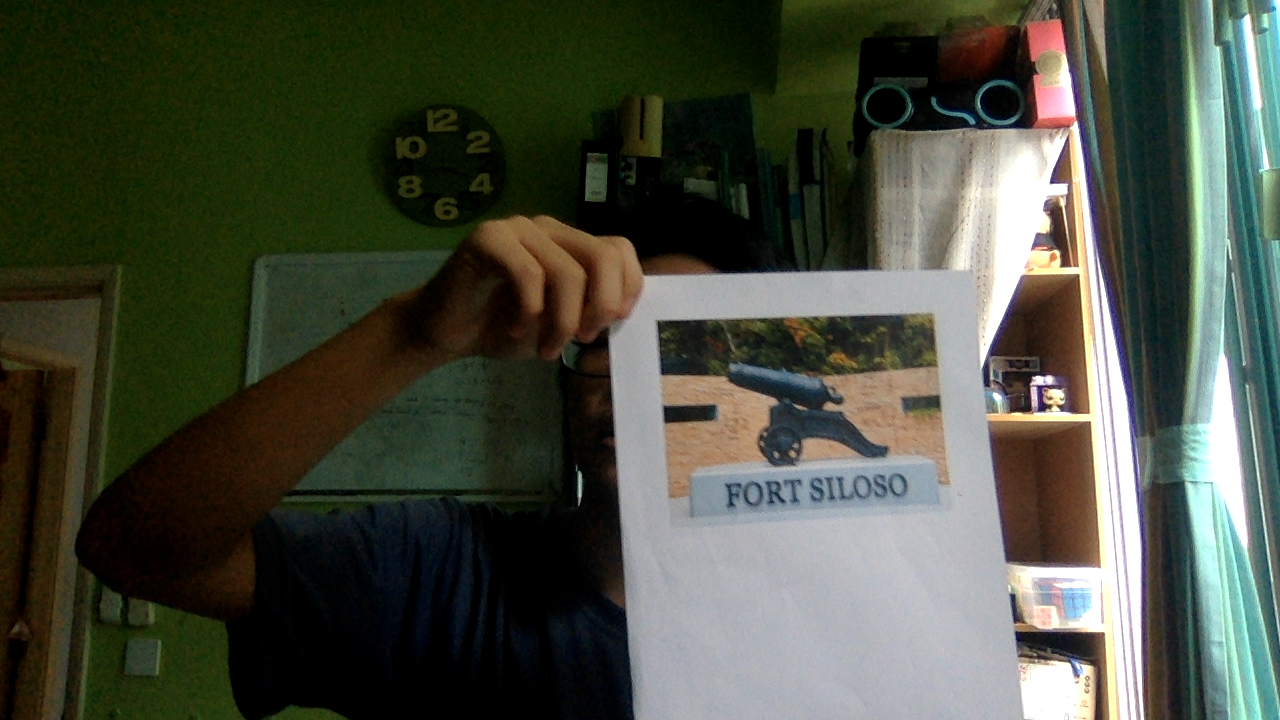siloso: (640, 319, 965, 522)
